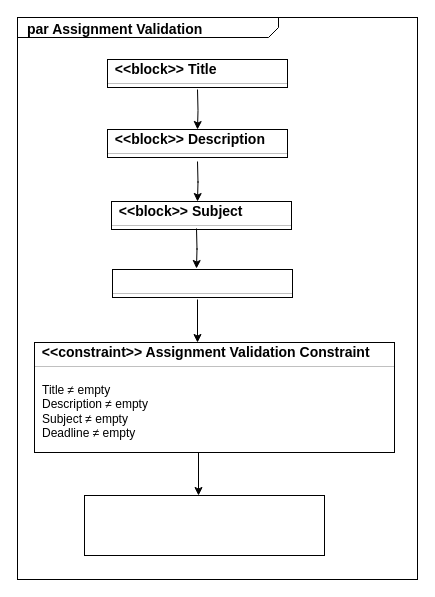
This 435x597 diagram has some shape labels left out. The centre of each missing label's shape, as x and y in pixels:
"<<block>> Due Date" goes at point 202,283.
"Assignment Can Be Saved" goes at point 204,525.
